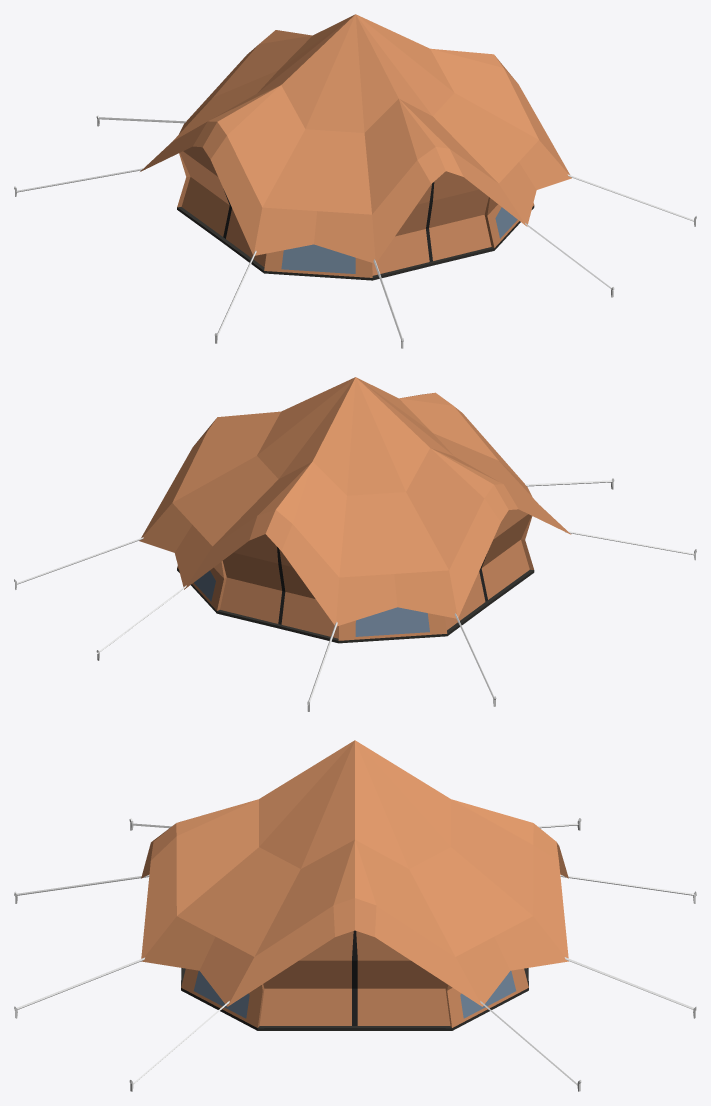
Rendered from Tent_Big_01.fbx.
3 renders of one model, top to bottom at view 1: azimuth 30°, elevation 25°; view 2: azimuth 150°, elevation 25°; view 3: azimuth 270°, elevation 25°, orthographic. The views are drawn at different scales.
Visible parts, largest first — view 1: Tent_Base, Door_Front, Door_Left, Pegs; view 2: Tent_Base, Door_Back, Door_Left, Pegs; view 3: Tent_Base, Door_Right, Pegs.
Boxes of the visible parts, x1=… form: Tent_Base: x1=140, y1=14, x2=571, y2=280; Door_Front: x1=372, y1=171, x2=491, y2=275; Door_Left: x1=180, y1=146, x2=266, y2=267; Pegs: x1=14, y1=115, x2=696, y2=348; Tent_Base: x1=139, y1=377, x2=571, y2=643; Door_Back: x1=220, y1=534, x2=338, y2=638; Door_Left: x1=445, y1=509, x2=531, y2=629; Pegs: x1=14, y1=478, x2=696, y2=711; Tent_Base: x1=141, y1=740, x2=568, y2=1030; Door_Right: x1=259, y1=930, x2=450, y2=1025; Pegs: x1=14, y1=818, x2=696, y2=1091.
Bounding box in the file's own units: 11.3 × 4.43 × 12.42.
